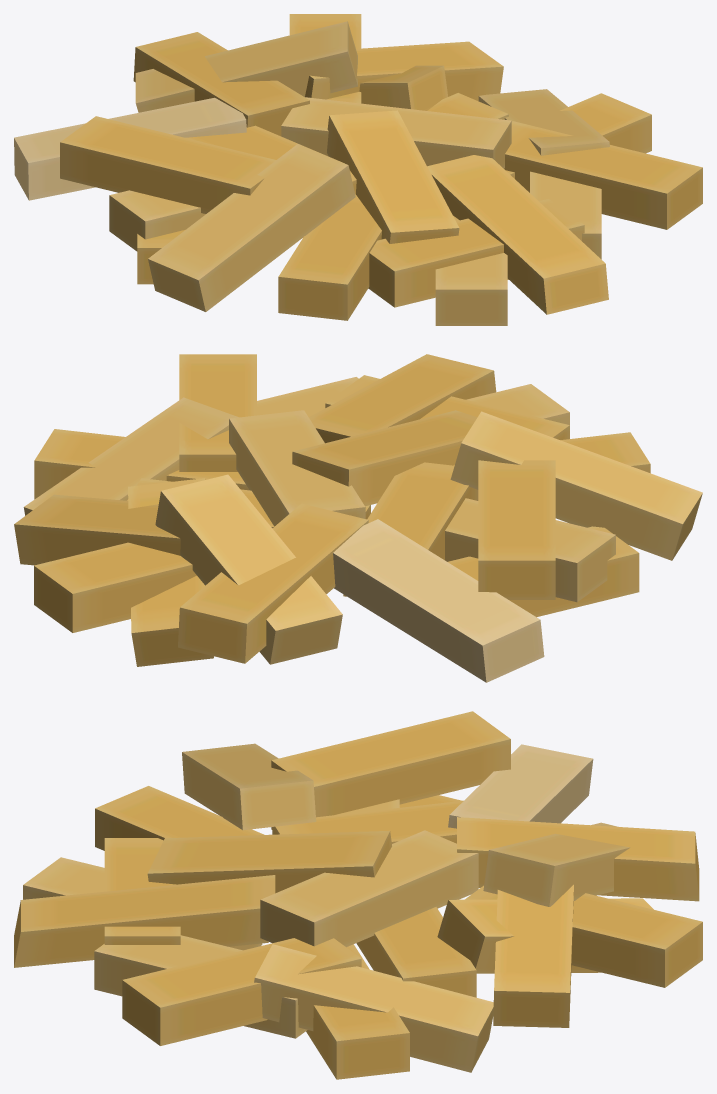
File: Pizza_Mozarella_Raw.fbx
3 renders of one model, top to bottom at view 1: azimuth 30°, elevation 25°; view 2: azimuth 150°, elevation 25°; view 3: azimuth 270°, elevation 25°, orthographic. The views are drawn at different scales.
Parts seen in each view (by area): view 1: Pizza_Mozarella_Raw; view 2: Pizza_Mozarella_Raw; view 3: Pizza_Mozarella_Raw.
Part boxes in pixels (<box>): Pizza_Mozarella_Raw: <box>14,14,702,325</box>; Pizza_Mozarella_Raw: <box>14,354,702,682</box>; Pizza_Mozarella_Raw: <box>14,711,702,1079</box>.
Bounding box in the file's own units: 0.6775 × 0.1404 × 0.7031.
1 material, 1 textured.
